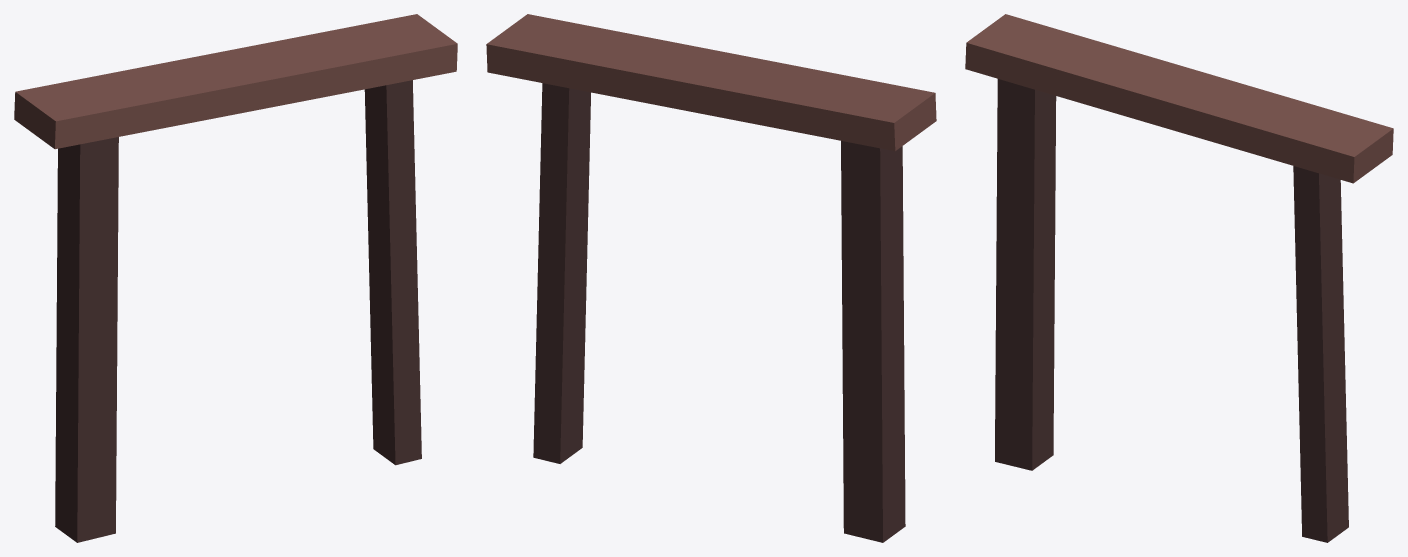
The model's file is LightRoseWoodMechSmallSmashableEntrance1Frame.fbx.
3 views of the same model, side by side, from view 1: azimuth 30°, elevation 25°; view 2: azimuth 150°, elevation 25°; view 3: azimuth 330°, elevation 25° (orthographic). The views are drawn at different scales.
Visible parts, largest first — view 1: Frame2; view 2: Frame2; view 3: Frame2.
Boxes of the visible parts, <box> form: Frame2: <box>14,14,457,542</box>; Frame2: <box>486,14,936,542</box>; Frame2: <box>965,14,1393,542</box>.
Bounding box in the file's own units: 210 × 215 × 36.76.
